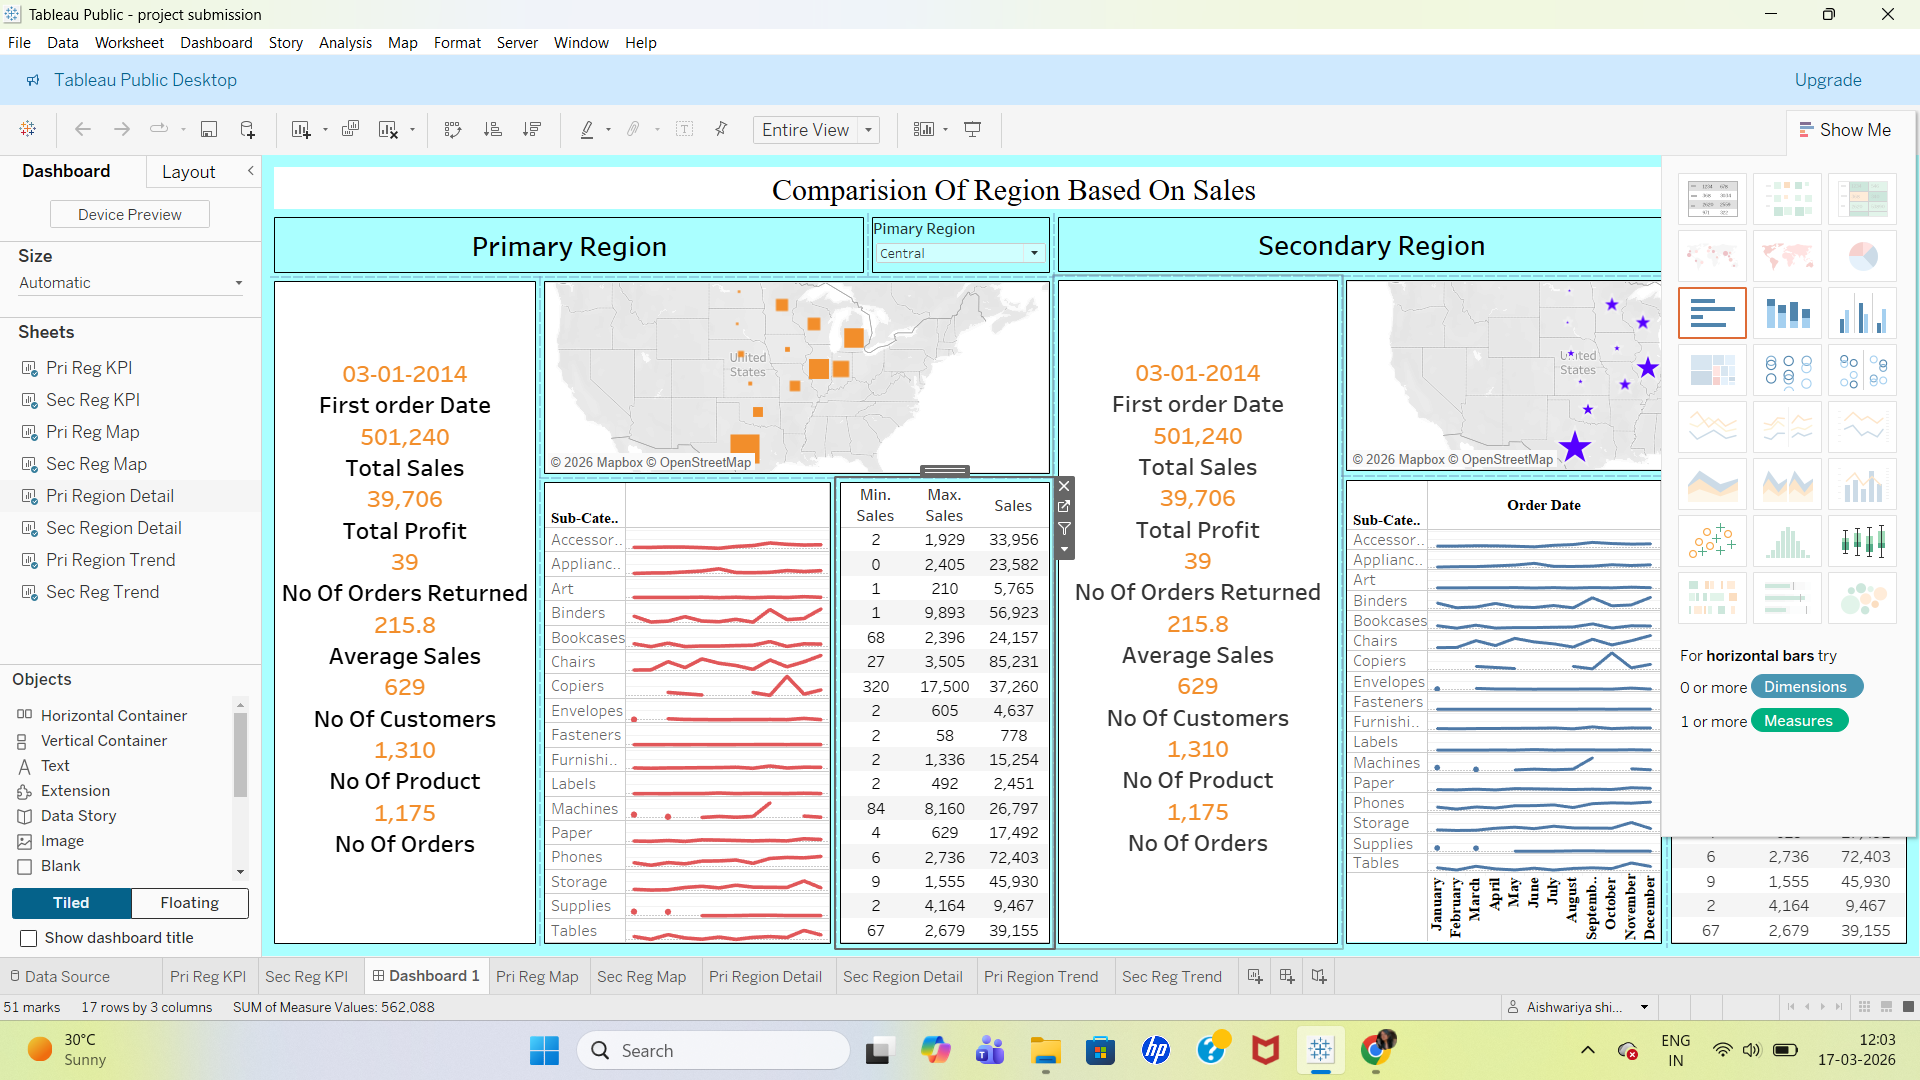

What the dashboard file says about the page in this screenshot:
{"tool":"tableau","page":{"name":"Dashboard 1","canvas":[1000,1000],"units":"permille","ordinal":0},"visuals":[{"type":"title","box":[4.8,10,990.3,62.4]},{"type":"text","box":[4.8,72.4,361.2,79.3]},{"type":"parameter","param":"[Parameters].[Parameter 1]","box":[366,72.4,112,79.3]},{"type":"text","box":[478,72.4,384.1,79.3]},{"type":"parameter","param":"[Parameters].[Pimary Region (copy)_1654228468920717314]","box":[862.1,72.4,71.6,79.3]},{"type":"dashboard-object","box":[933.7,72.4,61.4,79.3]},{"type":"worksheet","title":"Pri Reg KPI","mark":"Automatic","box":[4.8,151.7,163.1,838.3]},{"type":"worksheet","title":"Pri Reg Map","mark":"Shape","box":[168,151.7,310.1,251.5]},{"type":"worksheet","title":"Sec Reg KPI ","mark":"Automatic","box":[478,151.7,174,838.3]},{"type":"worksheet","title":"Sec Reg Map ","mark":"Shape","box":[652,151.7,343.2,249.1]},{"type":"worksheet","title":"Sec Reg Trend ","mark":"Automatic","rows":["Sub-Category","Sales"],"cols":["Order Date"],"box":[652,400.7,195.7,589.3]},{"type":"worksheet","title":"Sec Region Detail","mark":"Automatic","rows":["Sub-Category"],"box":[847.7,400.7,147.5,589.3]},{"type":"worksheet","title":"Pri Region Trend ","mark":"Line","rows":["Sub-Category","Sales"],"cols":["Order Date"],"box":[168,403.2,178.2,586.8]},{"type":"worksheet","title":"Pri Region Detail","mark":"Automatic","rows":["Sub-Category"],"box":[346.2,403.2,131.8,586.8]}]}

Visuals, with their boxes on the dashboard's canvas, which has no fixed pixel size, in thousandths of its width and height (x1, y1, x2, y2). These are canvas units, not pixel positions in the 1920x1080 screenshot, which may show the page scaled, cropped or inside an application window:
title: crop(5, 10, 995, 72)
text: crop(5, 72, 366, 152)
parameter: crop(366, 72, 478, 152)
text: crop(478, 72, 862, 152)
parameter: crop(862, 72, 934, 152)
dashboard-object: crop(934, 72, 995, 152)
"Pri Reg KPI" worksheet: crop(5, 152, 168, 990)
"Pri Reg Map" worksheet (Shape marks): crop(168, 152, 478, 403)
"Sec Reg KPI " worksheet: crop(478, 152, 652, 990)
"Sec Reg Map " worksheet (Shape marks): crop(652, 152, 995, 401)
"Sec Reg Trend " worksheet: crop(652, 401, 848, 990)
"Sec Region Detail" worksheet: crop(848, 401, 995, 990)
"Pri Region Trend " worksheet (Line marks): crop(168, 403, 346, 990)
"Pri Region Detail" worksheet: crop(346, 403, 478, 990)
